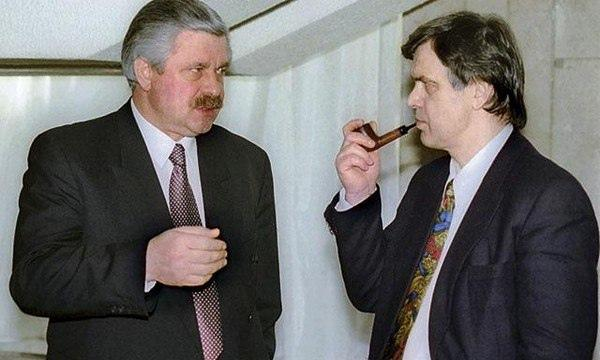trubka: (352, 122, 417, 153)
